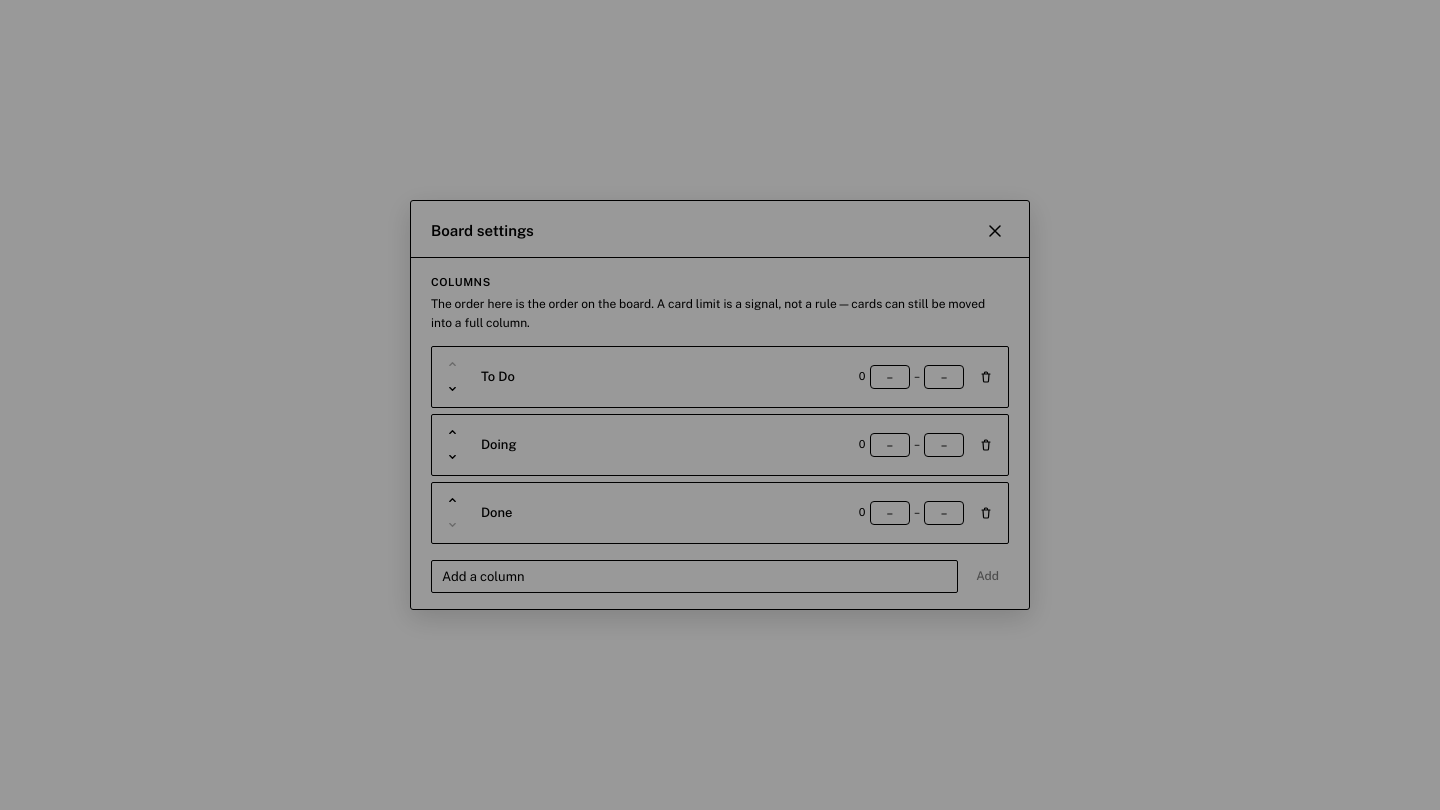
Test: BoardSettingsDialog — limits › refuses a negative at the field, since a minus sign there is a typo
The width and height of the screenshot is (1440, 810).
Type "-3" into the field named "Maximum cards in To Do".
click(944, 376); type("-3")  # box [924,364,964,388]
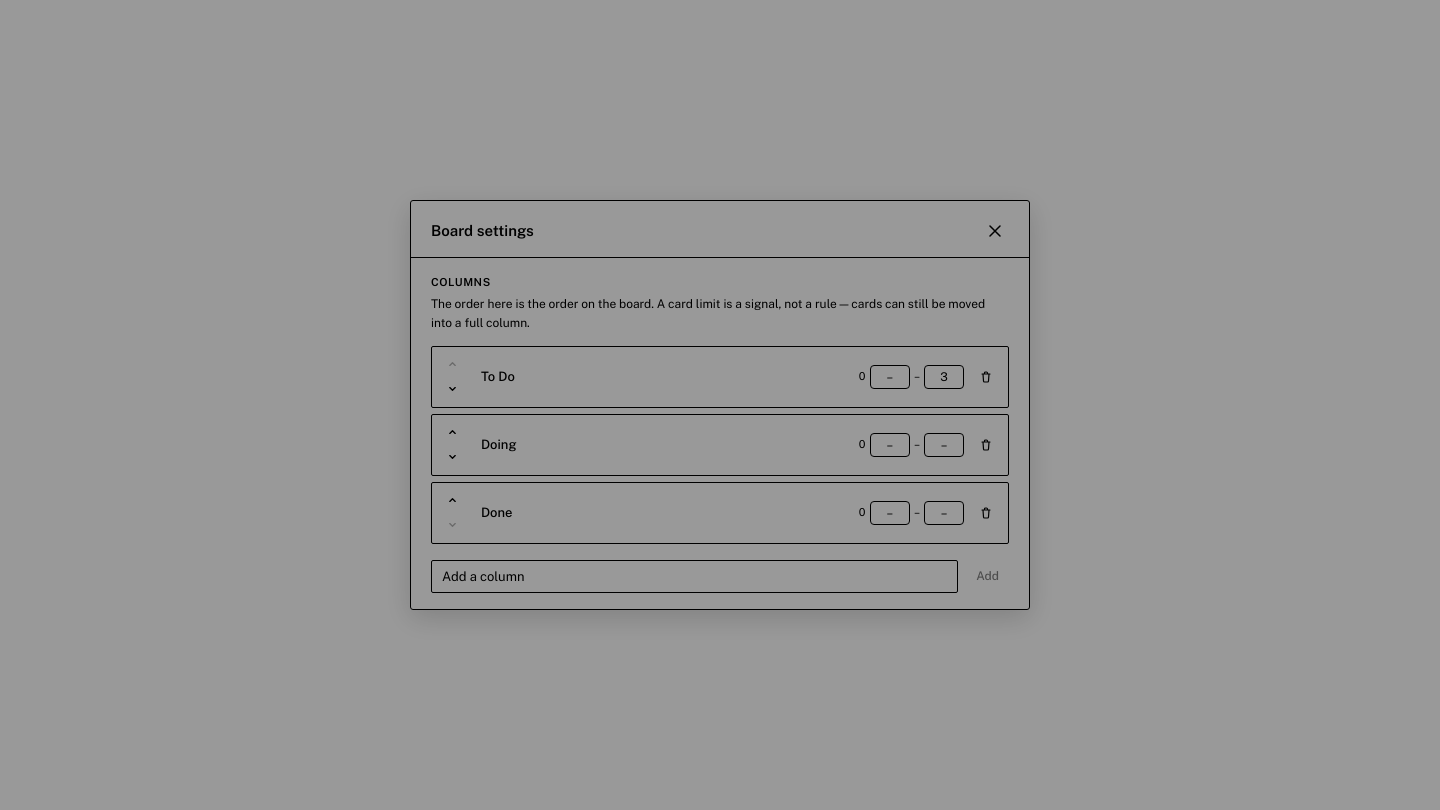
Now the field named "Maximum cards in To Do" holds "3", box [924,364,964,388]
